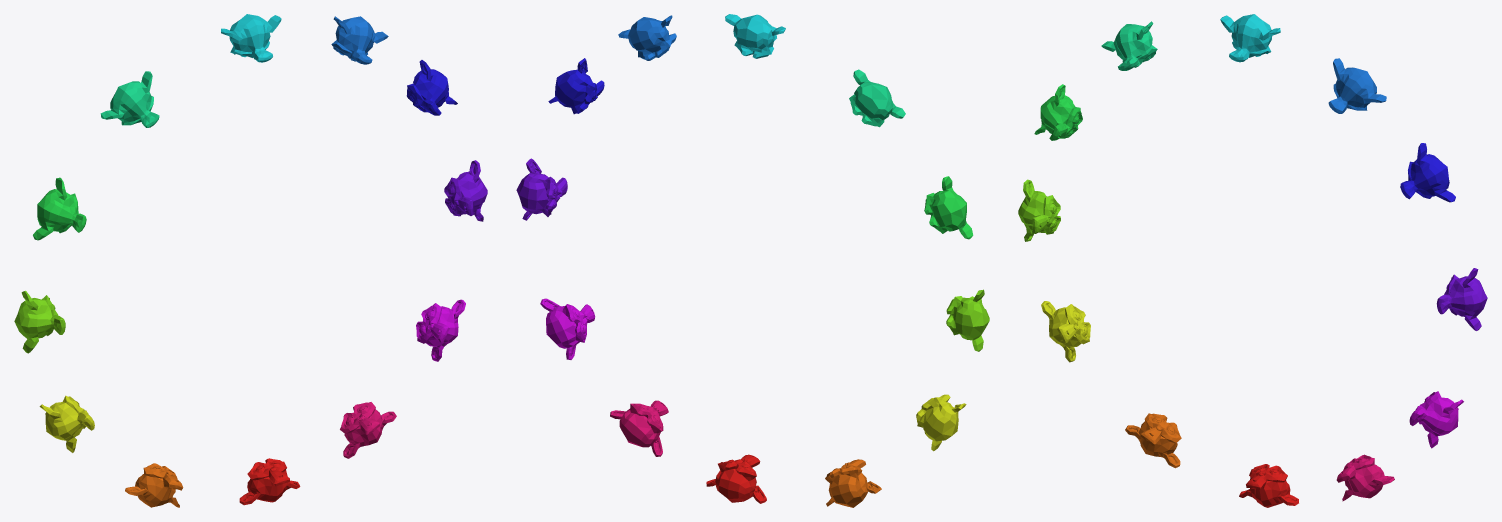
Rendered from monkey.dae.
3 renders of one model, left to right at view 1: azimuth 30°, elevation 25°; view 2: azimuth 150°, elevation 25°; view 3: azimuth 330°, elevation 25°, orthographic.
Parts seen in each view (by area): view 1: Suzanne_011, Suzanne_007, Suzanne_006, Suzanne_010, Suzanne_002, Suzanne_001, Suzanne_000, Suzanne_003, Suzanne_005, Suzanne_009, Suzanne_004, Suzanne_008; view 2: Suzanne_001, Suzanne_002, Suzanne_000, Suzanne_003, Suzanne_011, Suzanne_007, Suzanne_006, Suzanne_010, Suzanne_004, Suzanne_008, Suzanne_005, Suzanne_009; view 3: Suzanne_008, Suzanne_009, Suzanne_003, Suzanne_010, Suzanne_005, Suzanne_004, Suzanne_006, Suzanne_002, Suzanne_000, Suzanne_007, Suzanne_011, Suzanne_001.
Boxes of the visible parts, x1,y1,x2,y2 form: Suzanne_011: (100, 71, 159, 127); Suzanne_007: (33, 177, 86, 240); Suzanne_006: (14, 290, 65, 353); Suzanne_010: (221, 14, 281, 62); Suzanne_002: (416, 299, 465, 361); Suzanne_001: (340, 402, 396, 458); Suzanne_000: (239, 458, 300, 505); Suzanne_003: (444, 160, 487, 221); Suzanne_005: (39, 395, 94, 452); Suzanne_009: (331, 16, 388, 64); Suzanne_004: (125, 463, 183, 507); Suzanne_008: (406, 60, 457, 115); Suzanne_001: (610, 400, 668, 456); Suzanne_002: (540, 298, 595, 359); Suzanne_000: (706, 454, 766, 503); Suzanne_003: (516, 158, 567, 220); Suzanne_011: (849, 69, 905, 127); Suzanne_007: (924, 176, 973, 239); Suzanne_006: (946, 289, 989, 351); Suzanne_010: (725, 14, 785, 58); Suzanne_004: (825, 459, 881, 507); Suzanne_008: (548, 58, 604, 114); Suzanne_005: (916, 394, 966, 451); Suzanne_009: (618, 15, 676, 60); Suzanne_008: (1400, 143, 1455, 202); Suzanne_009: (1328, 58, 1386, 113); Suzanne_003: (1436, 268, 1487, 330); Suzanne_010: (1220, 14, 1280, 62); Suzanne_005: (1041, 301, 1090, 362); Suzanne_004: (1125, 413, 1181, 468); Suzanne_006: (1018, 179, 1060, 241); Suzanne_002: (1409, 391, 1463, 448); Suzanne_000: (1239, 464, 1298, 507); Suzanne_007: (1034, 84, 1082, 140); Suzanne_011: (1101, 21, 1157, 70); Suzanne_001: (1336, 454, 1394, 501).
Size of the model in its own units: 21.68 by 1.97 by 21.67.
